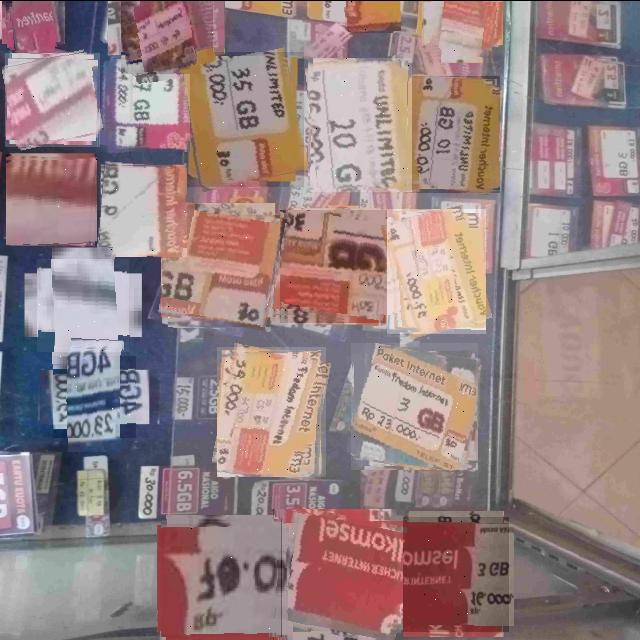Gratis Nelpon: (37, 258, 129, 351), (53, 355, 136, 437)
Indosat-3: (96, 55, 190, 151), (5, 52, 100, 146), (98, 162, 187, 256), (6, 153, 97, 244)
Telkomsel: (270, 508, 402, 640), (161, 518, 279, 636), (393, 516, 509, 631)
im3: (182, 51, 304, 186), (351, 342, 478, 469), (162, 204, 286, 326), (217, 346, 326, 476), (308, 57, 412, 191), (280, 209, 393, 322), (387, 208, 486, 333), (406, 75, 500, 192), (431, 0, 496, 55), (345, 0, 401, 32)
smartfren: (121, 0, 213, 73), (6, 0, 61, 49)
